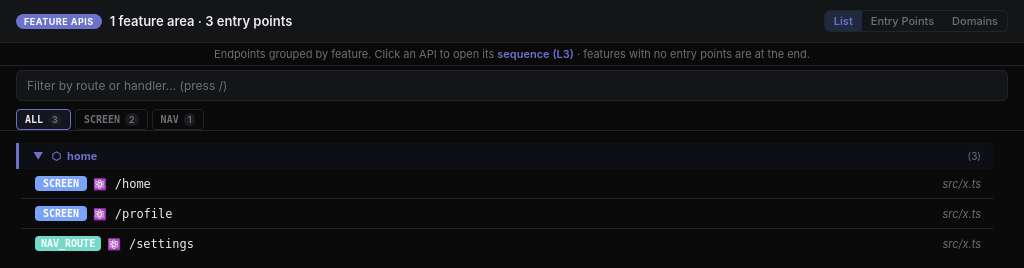
Scenario: method tabs — dynamic entry-point kinds (BUG-EXPLORE-4) › clicking a KIND tab filters to that kind
Click the button with class "ca-method-tab" showing "SCREEN 2" at coordinates (111, 120), box [75,109,148,130]
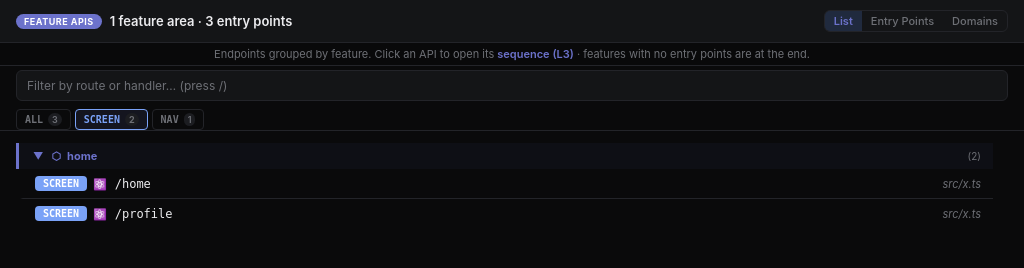
Expected: the text "/home" is shown, [115,176,151,190]
Expected: the button "/settings" is gone
